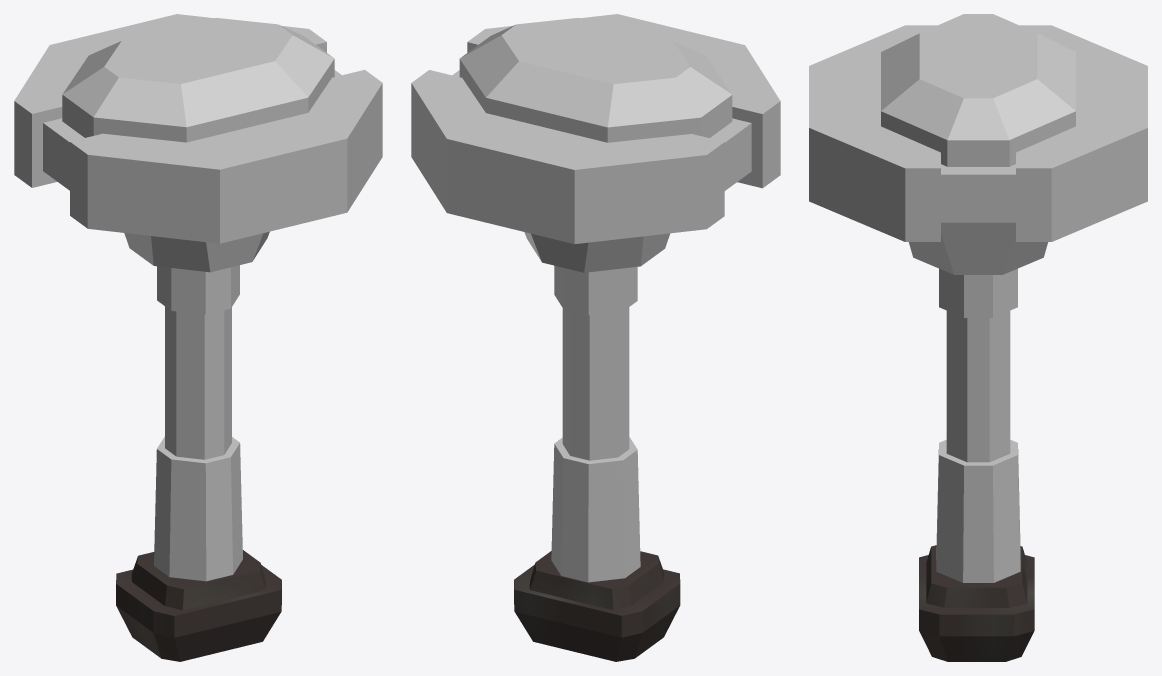
Rendered from SM_Tower_05.fbx.
3 renders of one model, left to right at view 1: azimuth 30°, elevation 25°; view 2: azimuth 150°, elevation 25°; view 3: azimuth 270°, elevation 25°, orthographic.
Visible parts, largest first — view 1: Cube.061, Cube.062, Cube.071; view 2: Cube.061, Cube.062, Cube.071; view 3: Cube.061, Cube.062, Cube.071.
Part boxes in pixels (bbox=[...]): Cube.061: bbox=[14, 14, 382, 314]; Cube.062: bbox=[116, 436, 281, 661]; Cube.071: bbox=[165, 306, 231, 459]; Cube.061: bbox=[411, 14, 780, 315]; Cube.062: bbox=[514, 437, 680, 661]; Cube.071: bbox=[562, 307, 629, 460]; Cube.061: bbox=[809, 14, 1147, 317]; Cube.062: bbox=[919, 439, 1034, 661]; Cube.071: bbox=[946, 311, 1010, 462].
Bounding box in the file's own units: 597 × 1130 × 597.
